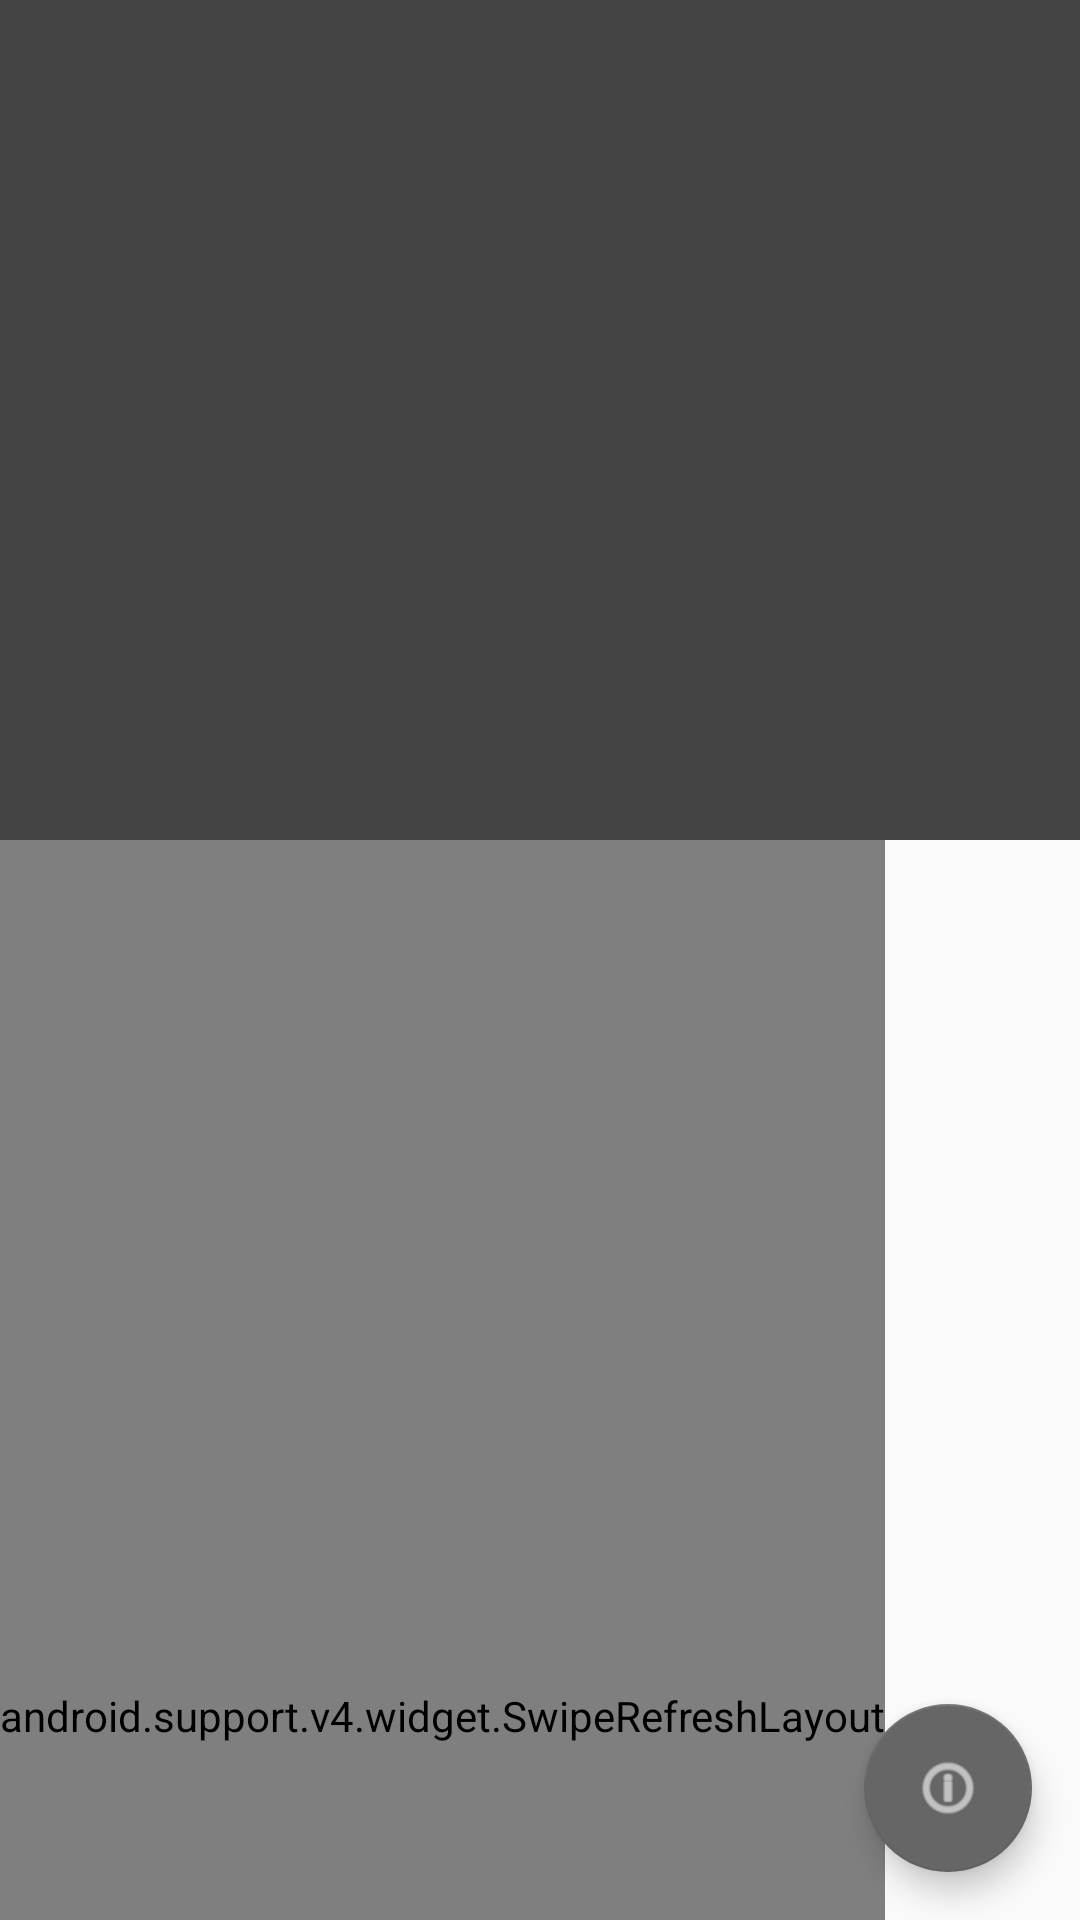

Point at icon controls on the screen. Image size 1080w x 1920h, points as (x=x, y=y).
info details: (x=948, y=1788)
